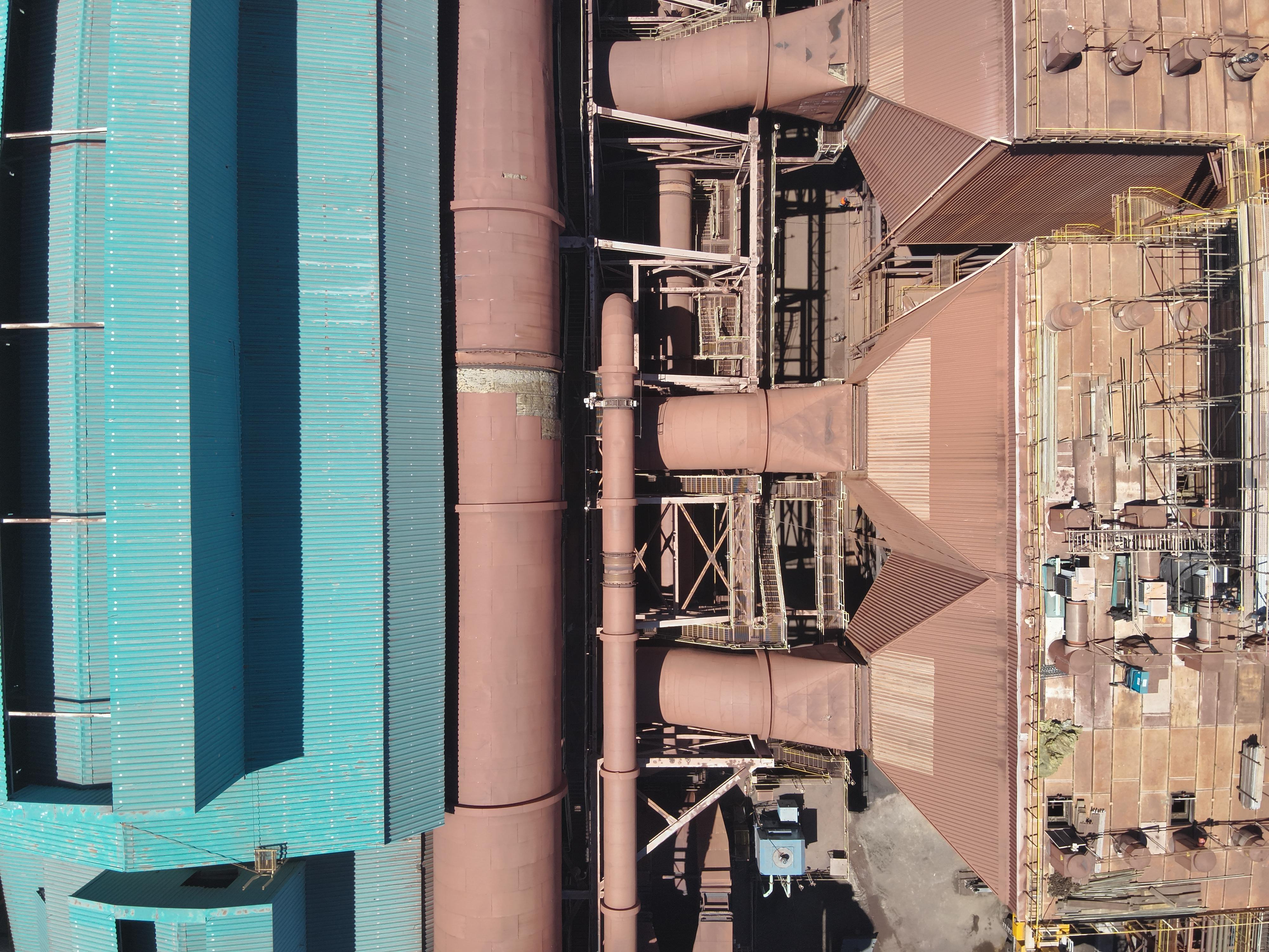Failures: (448, 362, 564, 441), (828, 60, 850, 85), (500, 172, 529, 182)
